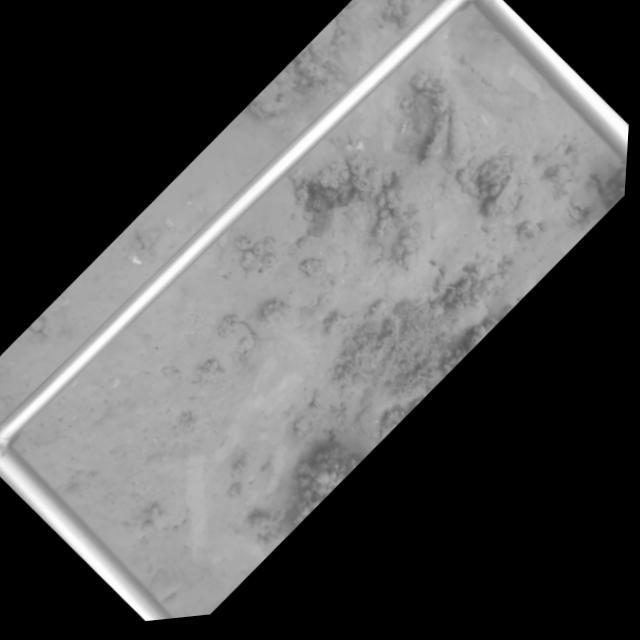Oyster-Closed: (285, 133, 352, 189), (445, 104, 475, 174)
